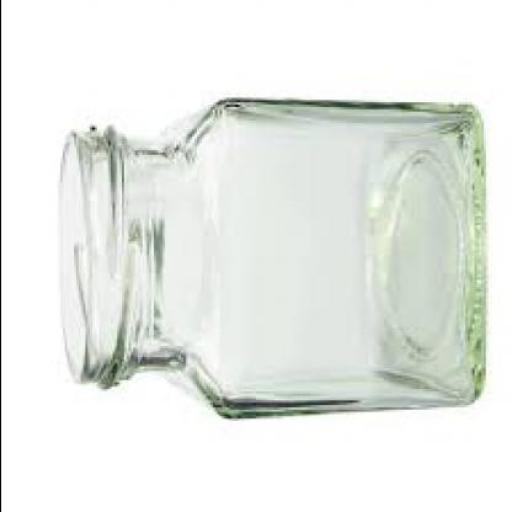glass: (56, 96, 482, 416)
